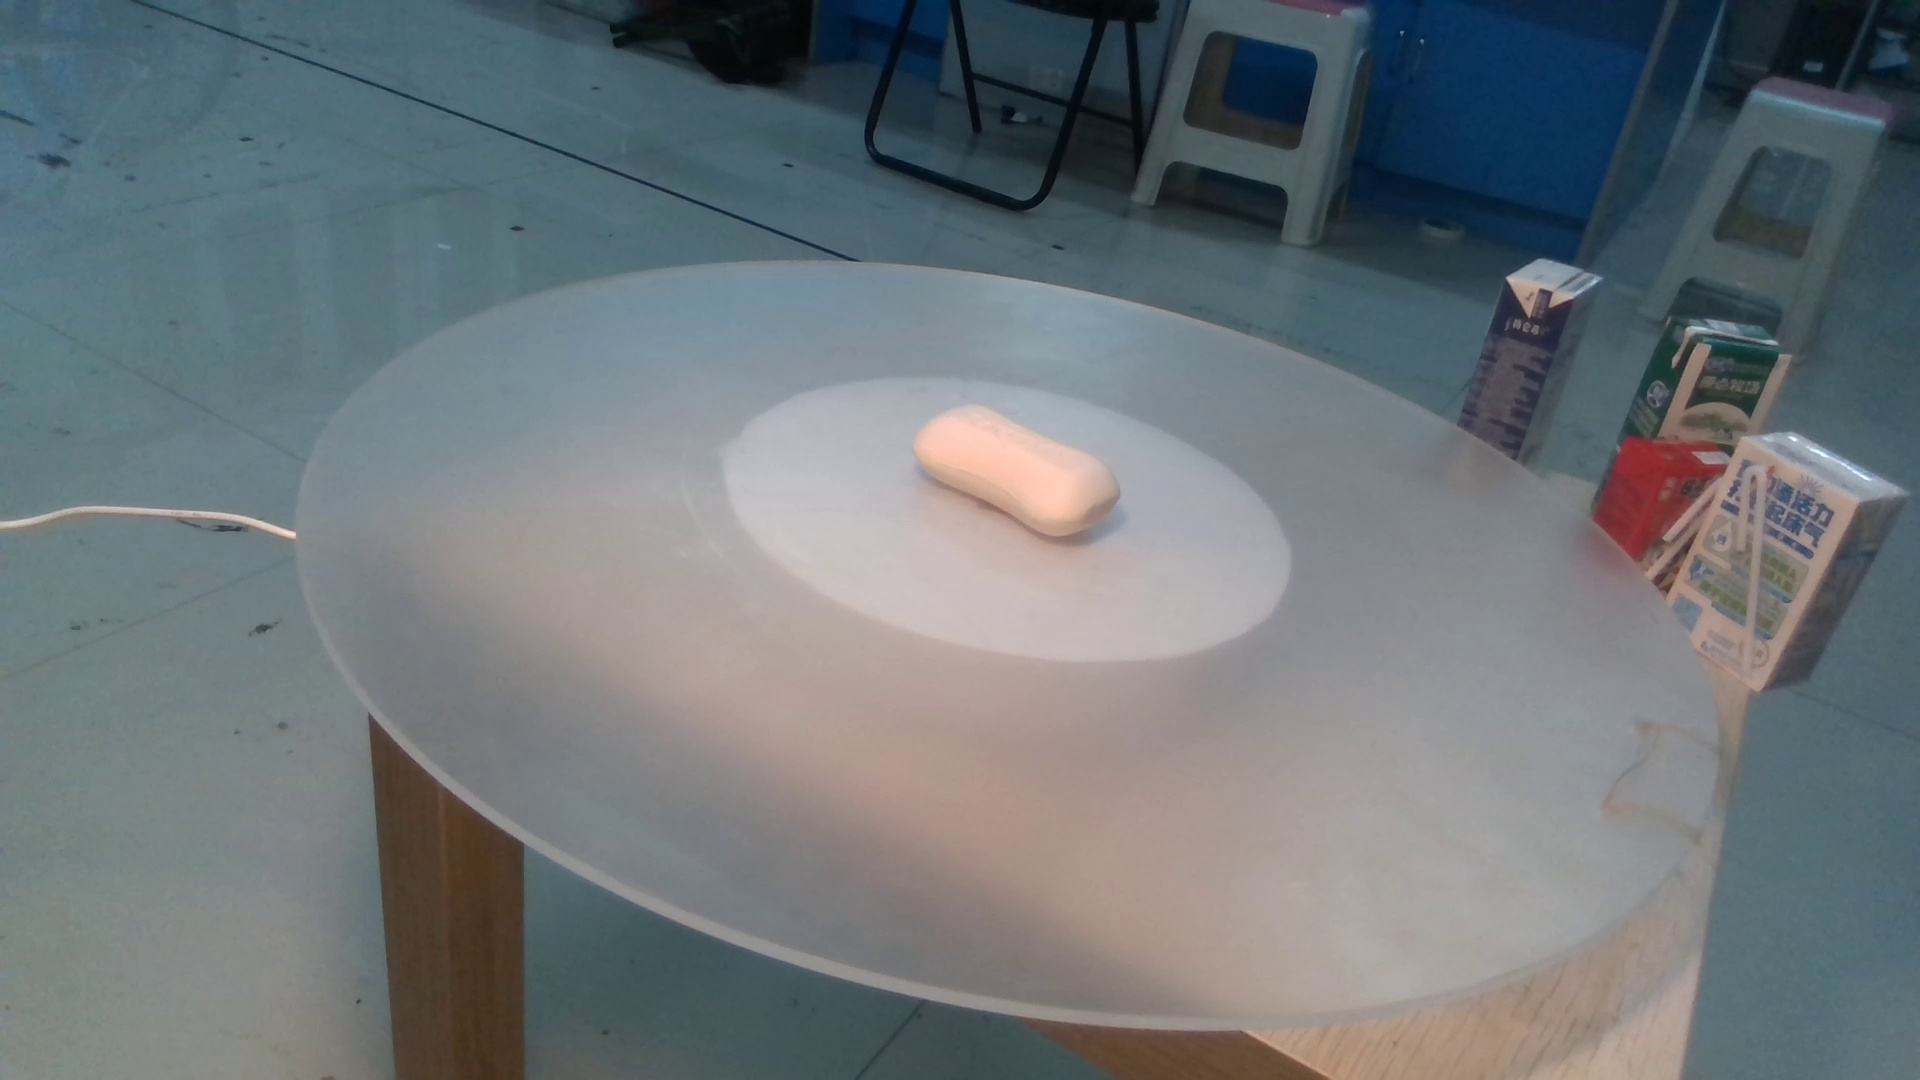CA003_1: (891, 381, 1149, 541)
